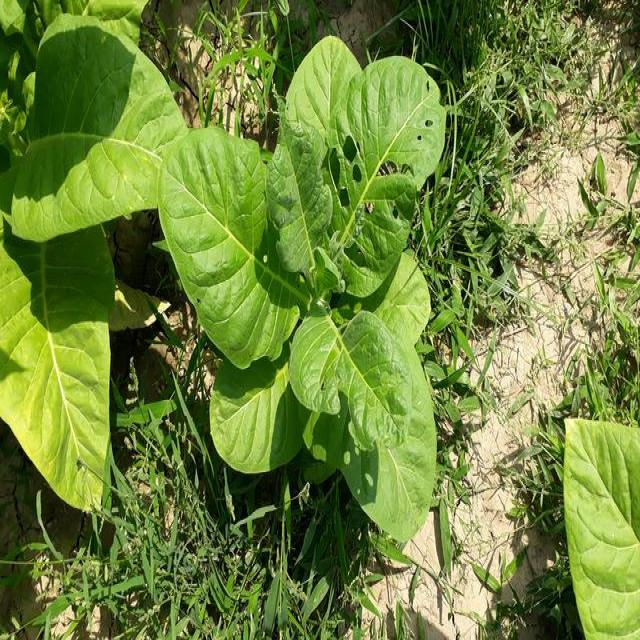crop: (166, 46, 443, 537), (0, 0, 161, 518)
